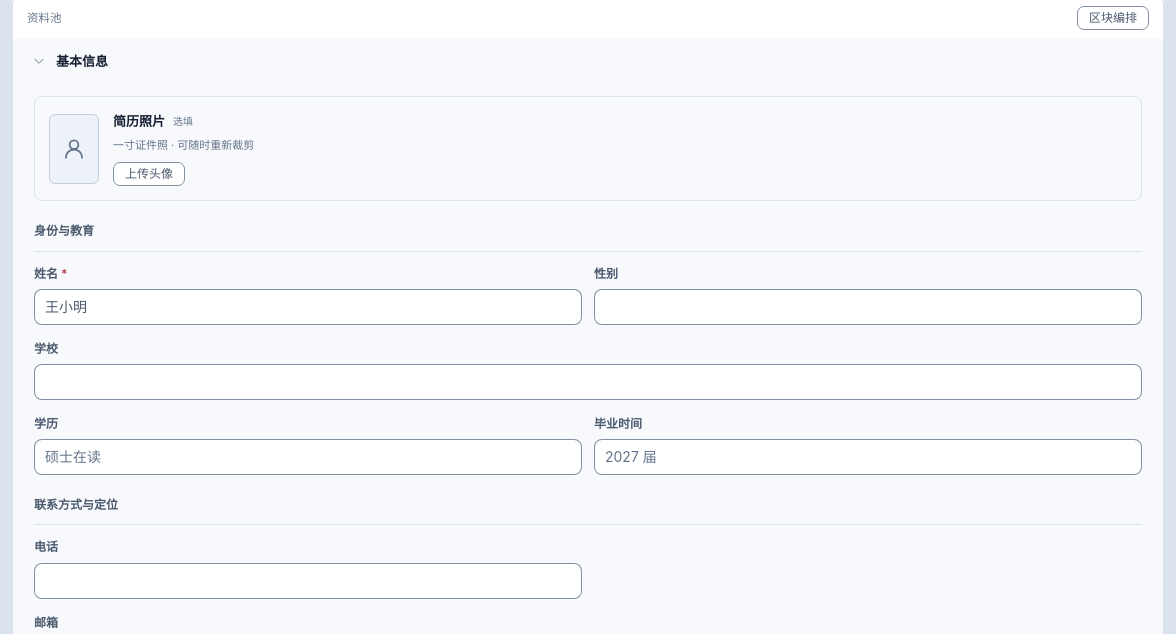
Test: ProfileEditor › 基本信息必填校验：姓名为空时提示
Clear the field labelled "姓名 *" at (308, 307), box [45,292,571,322]
(page scrolled)
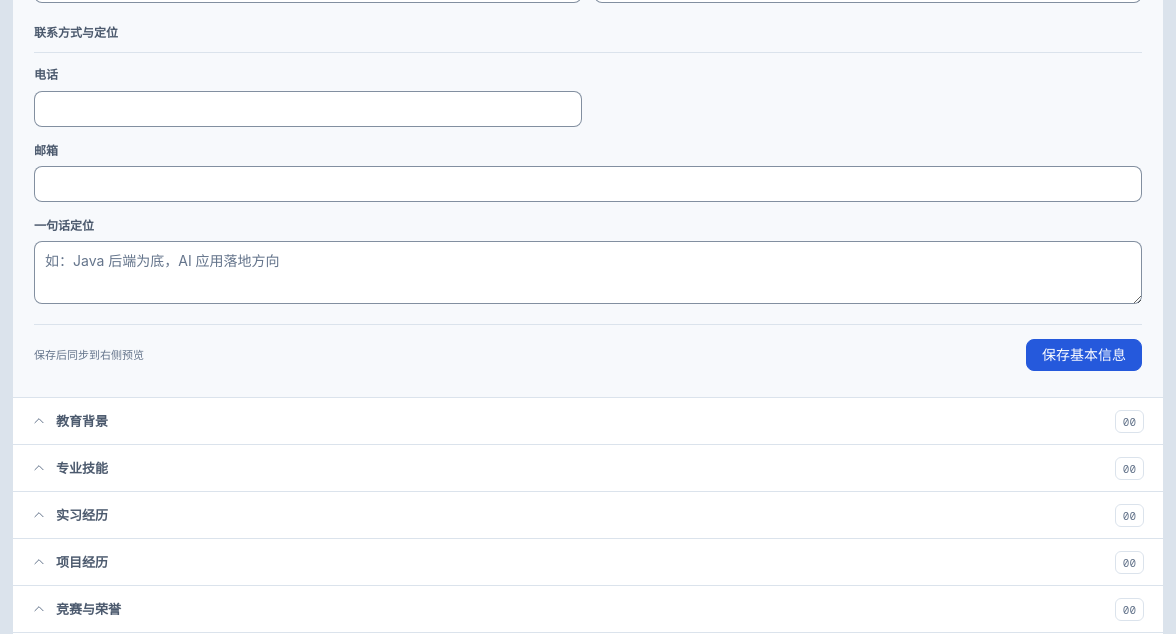
Click the button with class "basic-save" at (1084, 356), box [1026,340,1142,372]
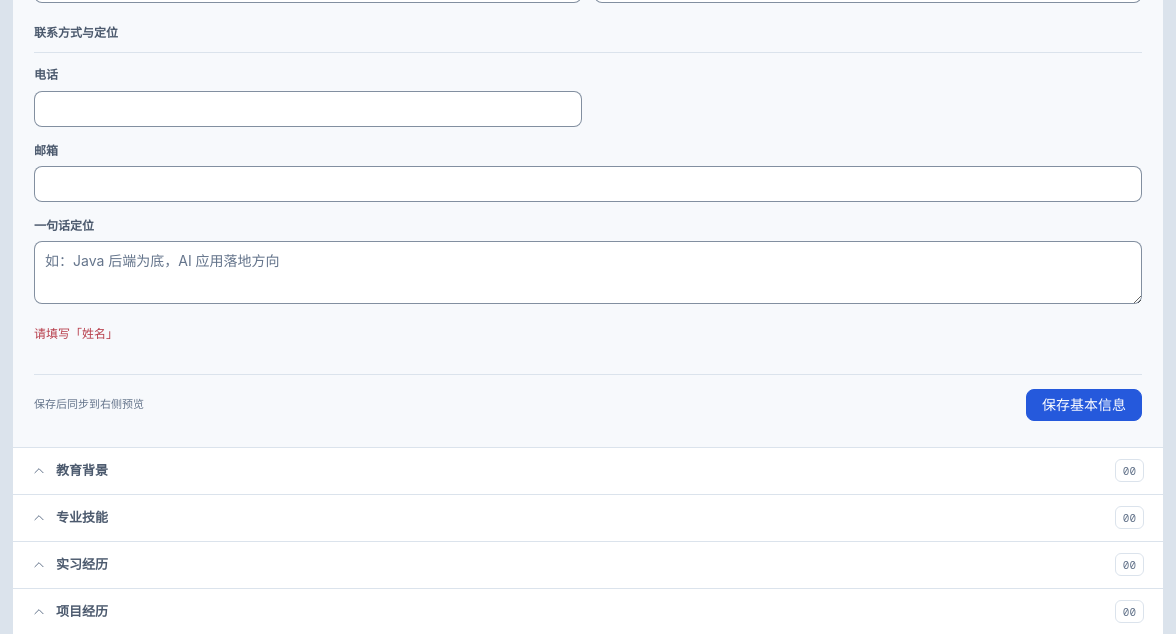
Result: the message "请填写「姓名」" is shown at [34,326,118,342]
